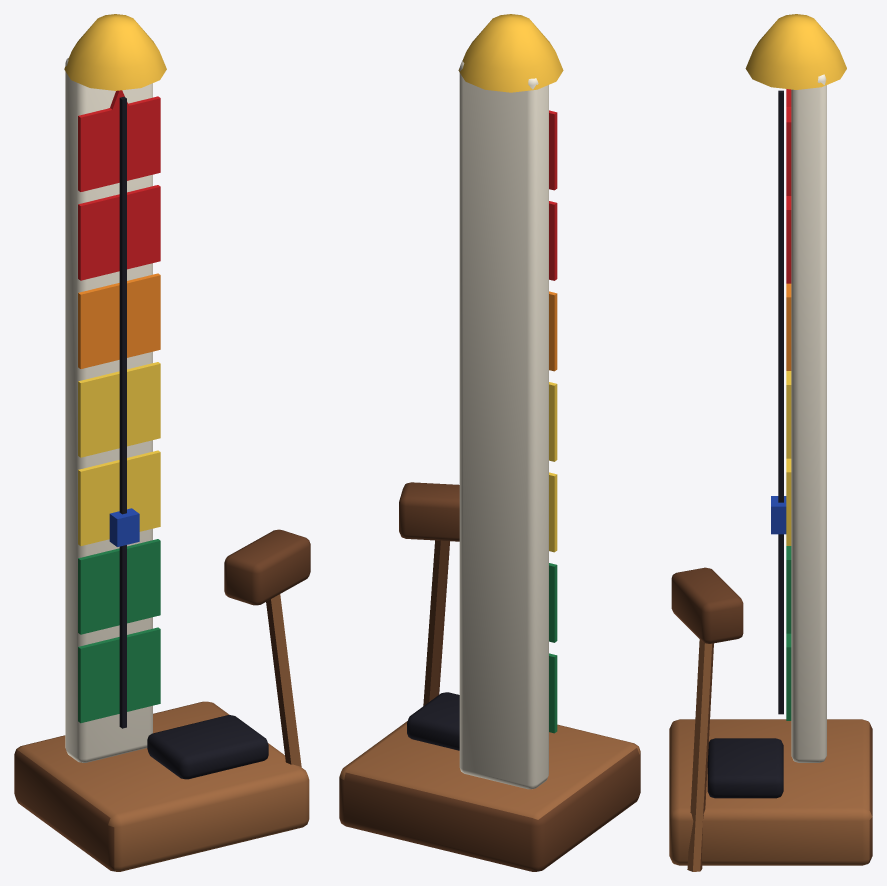
File: HighStriker.fbx
3 renders of one model, left to right at view 1: azimuth 30°, elevation 25°; view 2: azimuth 150°, elevation 25°; view 3: azimuth 270°, elevation 25°, orthographic. The views are drawn at different scales.
Visible parts, largest first — view 1: HighStriker; view 2: HighStriker; view 3: HighStriker.
Boxes of the visible parts, x1,y1,x2,y2 form: HighStriker: (14, 14, 310, 871); HighStriker: (339, 14, 640, 871); HighStriker: (669, 14, 872, 871).
Size of the model in its own units: 0.9693 by 3.42 by 0.8.
Materials: 1 (1 with a texture image).
